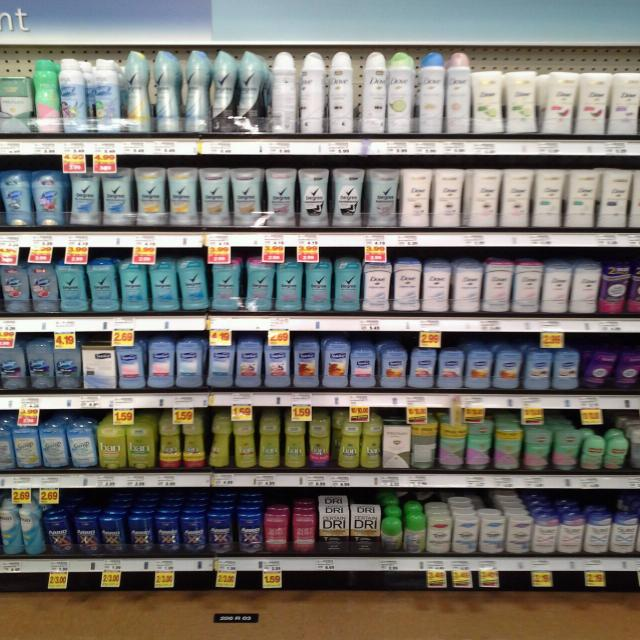unorganised: (268, 51, 297, 138), (542, 72, 579, 135), (300, 47, 325, 138), (206, 412, 232, 469)
